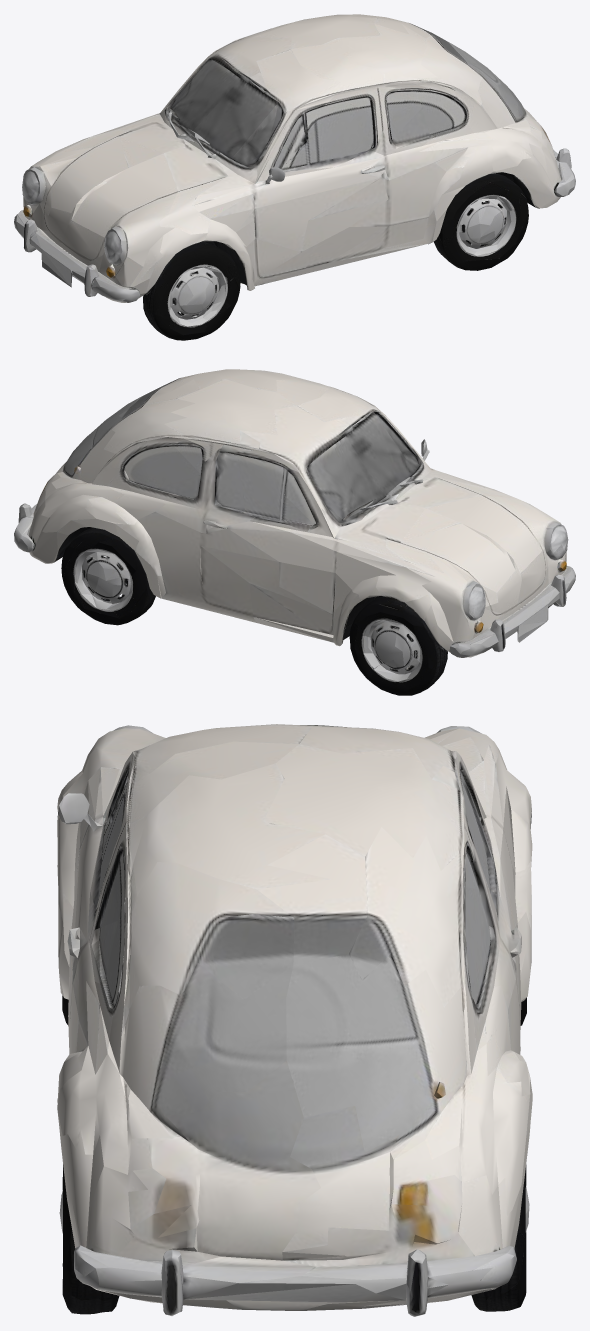
The model's file is carro-classico.glb.
3 renders of one model, top to bottom at view 1: azimuth 30°, elevation 25°; view 2: azimuth 150°, elevation 25°; view 3: azimuth 270°, elevation 25°, orthographic. The views are drawn at different scales.
Visible parts, largest first — view 1: output_unwrapped; view 2: output_unwrapped; view 3: output_unwrapped.
Boxes of the visible parts, x1,y1,x2,y2 form: output_unwrapped: (14, 14, 575, 340); output_unwrapped: (14, 369, 575, 695); output_unwrapped: (57, 724, 532, 1316).
Bounding box in the file's own units: 1.9 × 0.8055 × 0.8031.
Materials: 1 (1 with a texture image).
